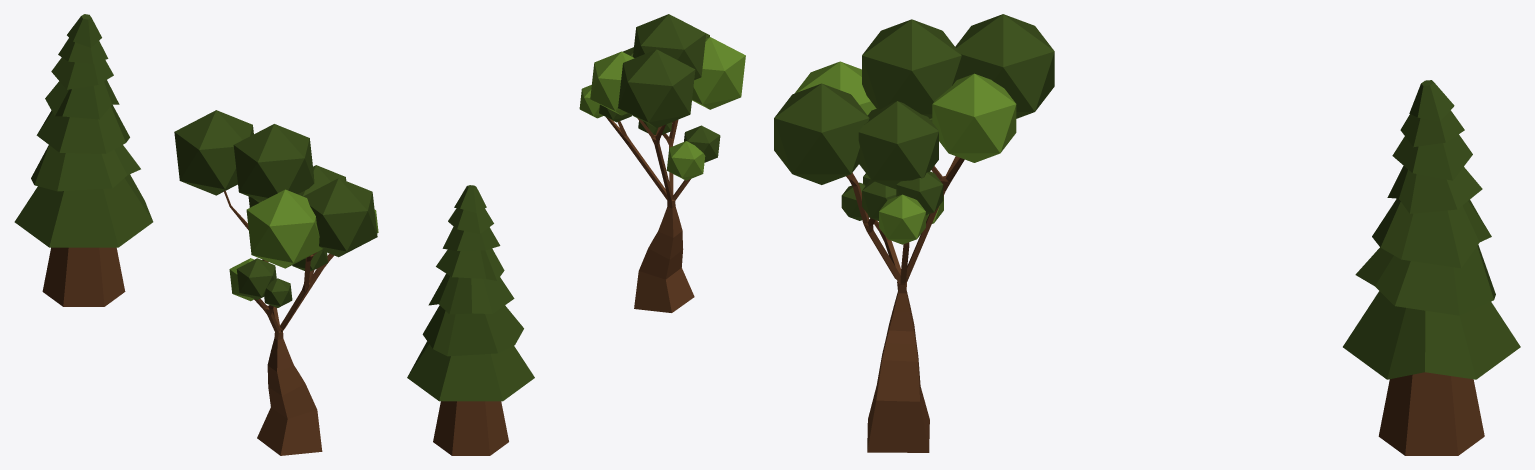
The model's file is Trees.fbx.
3 views of the same model, side by side, from view 1: azimuth 30°, elevation 25°; view 2: azimuth 150°, elevation 25°; view 3: azimuth 270°, elevation 25° (orthographic). The views are drawn at different scales.
Visible parts, largest first — view 1: Cylinder.001, Tree1, Icosphere.012, Icosphere.005, Icosphere.007, Tree2, Icosphere.006, Cylinder.002, Cylinder.003, Cylinder.004, Cylinder.005, Icosphere.001 (+4 smaller); view 2: Tree1, Cylinder.001, Icosphere.005, Cylinder.002, Tree2, Icosphere.007, Icosphere.012, Cylinder.003, Cylinder.004, Icosphere.004, Icosphere.002, Cylinder.005 (+4 smaller); view 3: Cylinder.001, Tree1, Tree2, Icosphere.006, Icosphere.012, Icosphere.005, Cylinder.002, Icosphere.004, Cylinder.003, Icosphere.011, Cylinder.004, Cylinder.005 (+6 smaller).
Boxes of the visible parts, x1,y1,x2,y2 form: Cylinder.001: (14, 174, 153, 247); Tree1: (224, 190, 334, 455); Icosphere.012: (233, 124, 314, 200); Icosphere.005: (174, 110, 253, 195); Icosphere.007: (246, 189, 322, 268); Tree2: (42, 247, 125, 306); Icosphere.006: (303, 178, 377, 257); Cylinder.002: (31, 145, 140, 191); Cylinder.003: (36, 104, 129, 153); Cylinder.004: (45, 80, 119, 119); Cylinder.005: (51, 57, 113, 89); Icosphere.001: (236, 258, 276, 299); Tree1: (606, 117, 694, 312); Cylinder.001: (407, 341, 534, 401); Icosphere.005: (618, 49, 695, 127); Cylinder.002: (422, 305, 523, 356); Tree2: (433, 401, 508, 455); Icosphere.007: (692, 37, 745, 109); Icosphere.012: (633, 14, 706, 79); Cylinder.003: (428, 273, 514, 314); Cylinder.004: (436, 248, 504, 280); Icosphere.004: (590, 51, 634, 115); Icosphere.002: (666, 141, 705, 180); Cylinder.005: (442, 226, 500, 250); Cylinder.001: (1343, 291, 1520, 379); Tree1: (846, 156, 964, 452); Tree2: (1378, 372, 1484, 455); Icosphere.006: (774, 83, 869, 184); Icosphere.012: (862, 19, 961, 118); Icosphere.005: (955, 14, 1054, 118); Cylinder.002: (1355, 245, 1495, 315); Icosphere.004: (932, 73, 1016, 162); Cylinder.003: (1372, 198, 1491, 268); Icosphere.011: (858, 101, 938, 189); Cylinder.004: (1387, 165, 1482, 213); Cylinder.005: (1392, 134, 1472, 180).
Size of the model in its own units: 438 by 861 by 1406.
